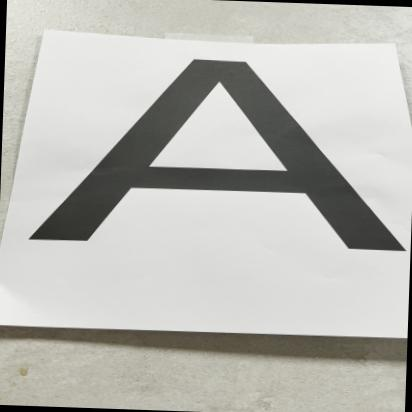seat: (26, 39, 412, 281)
